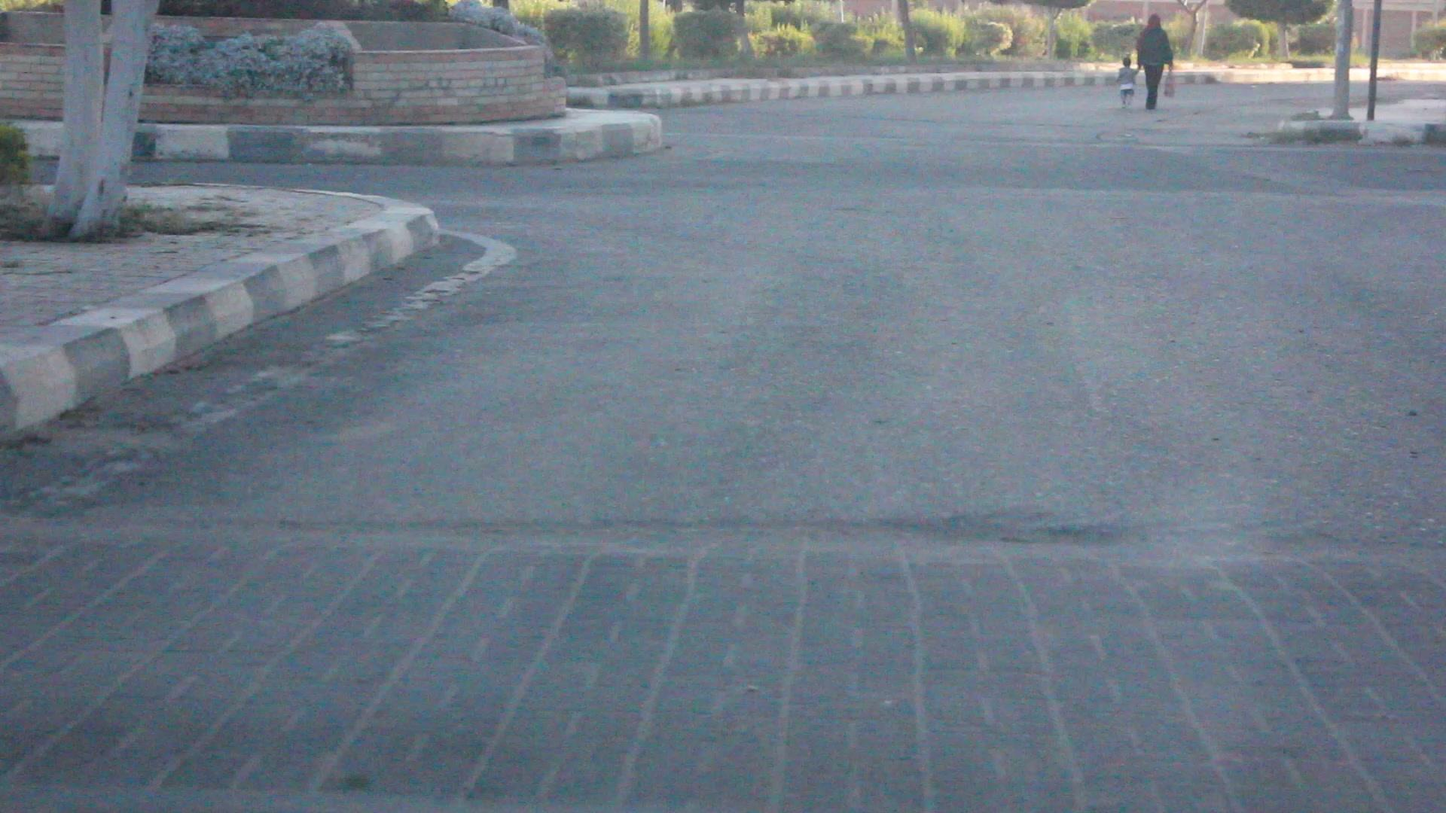Bump: (0, 508, 1445, 812)
